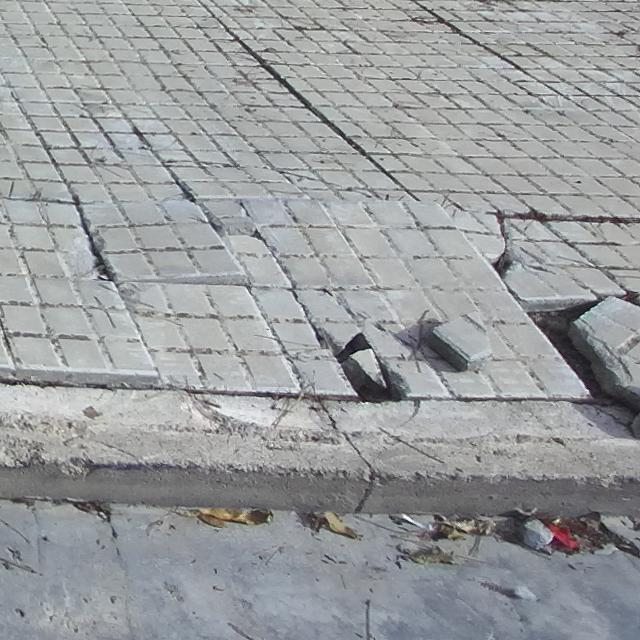calcada_quebrada: (246, 55, 423, 197), (74, 204, 120, 284), (515, 208, 640, 237), (494, 208, 515, 247)
